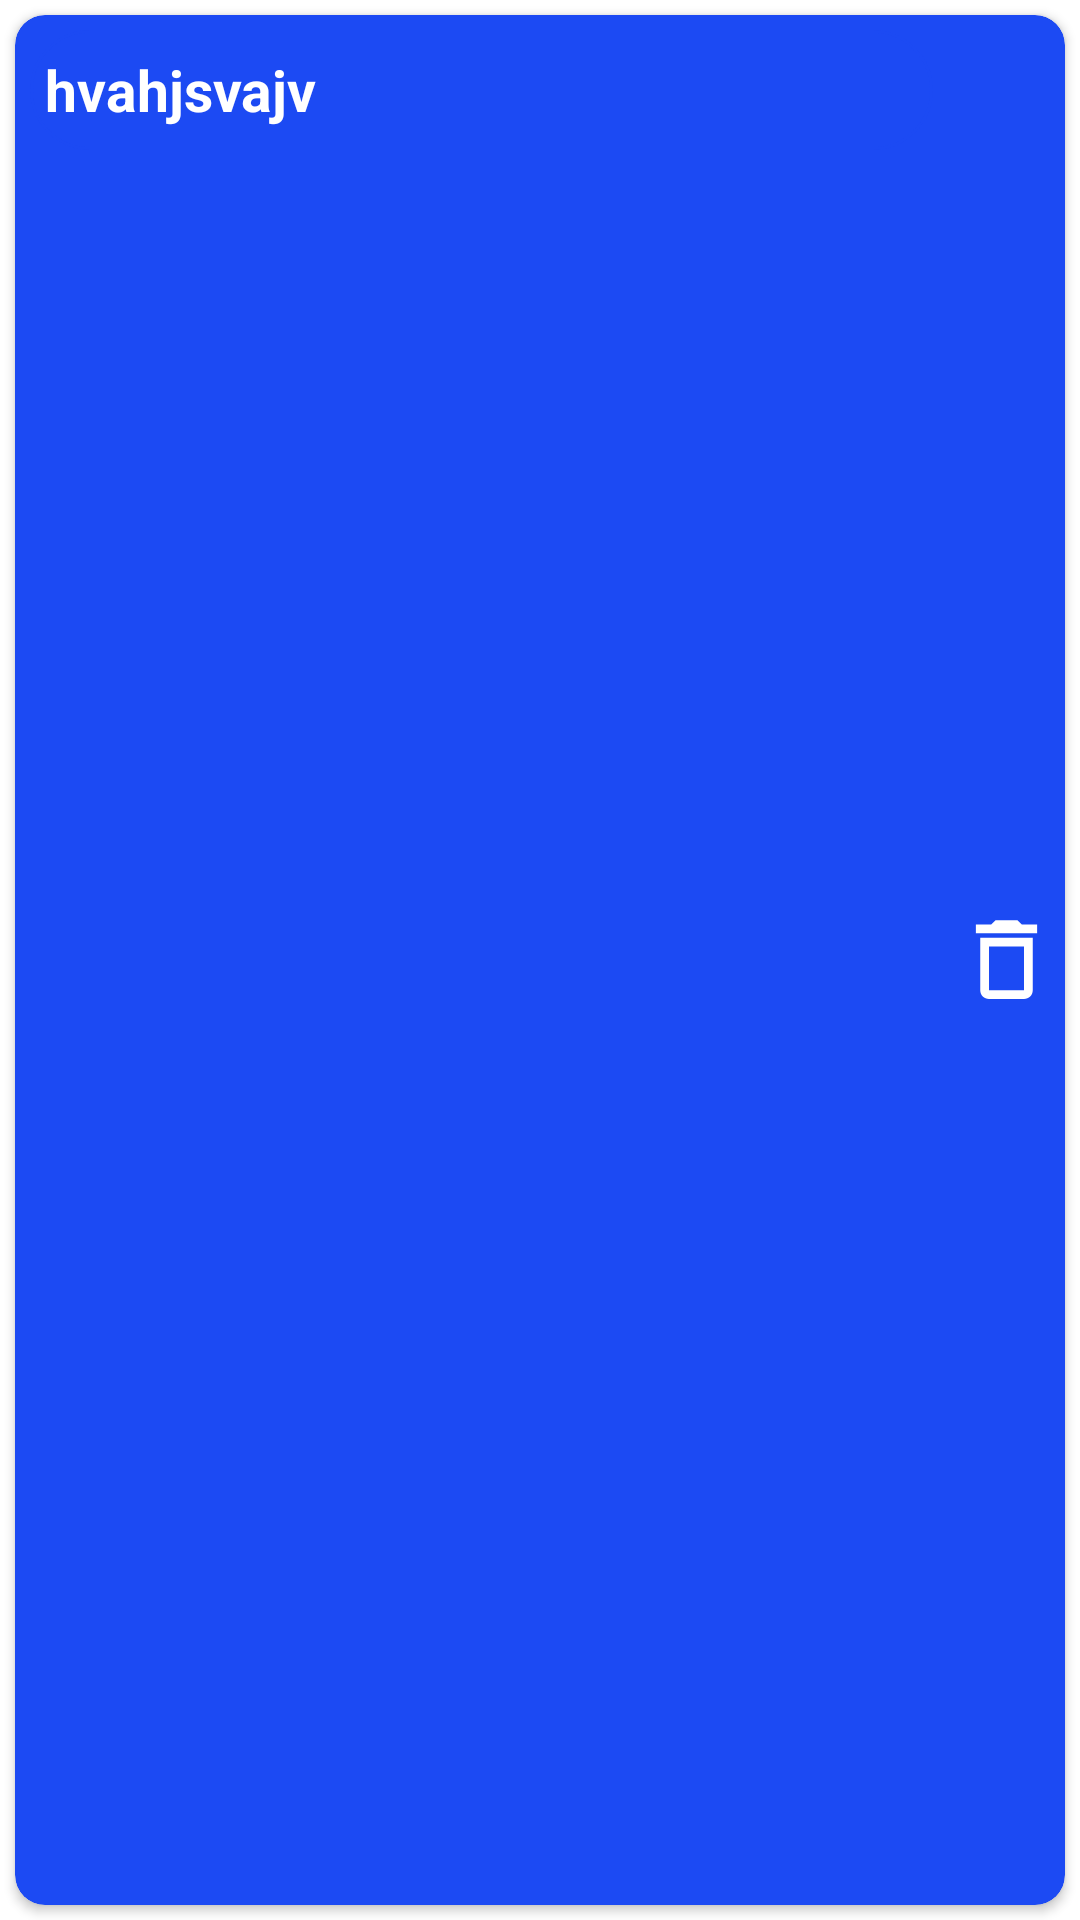

Where icons sit on this 1080px x 1920px app screen, as detection(x1, y1, x2, y2):
delete: detection(975, 920, 1038, 999)
